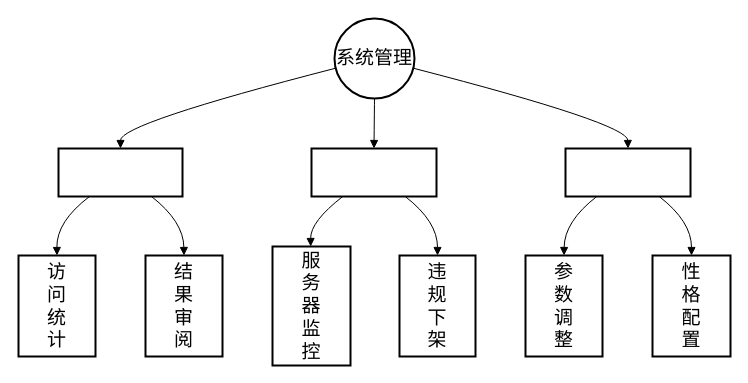
Some shapes in this 748 by 383 pixel diagram are drawn without their labels. Each missing label, with the centre of its shape:
"平台大盘" goes at [120,172].
"系统参数" goes at [627,172].
"防线预案" goes at [373,172].
